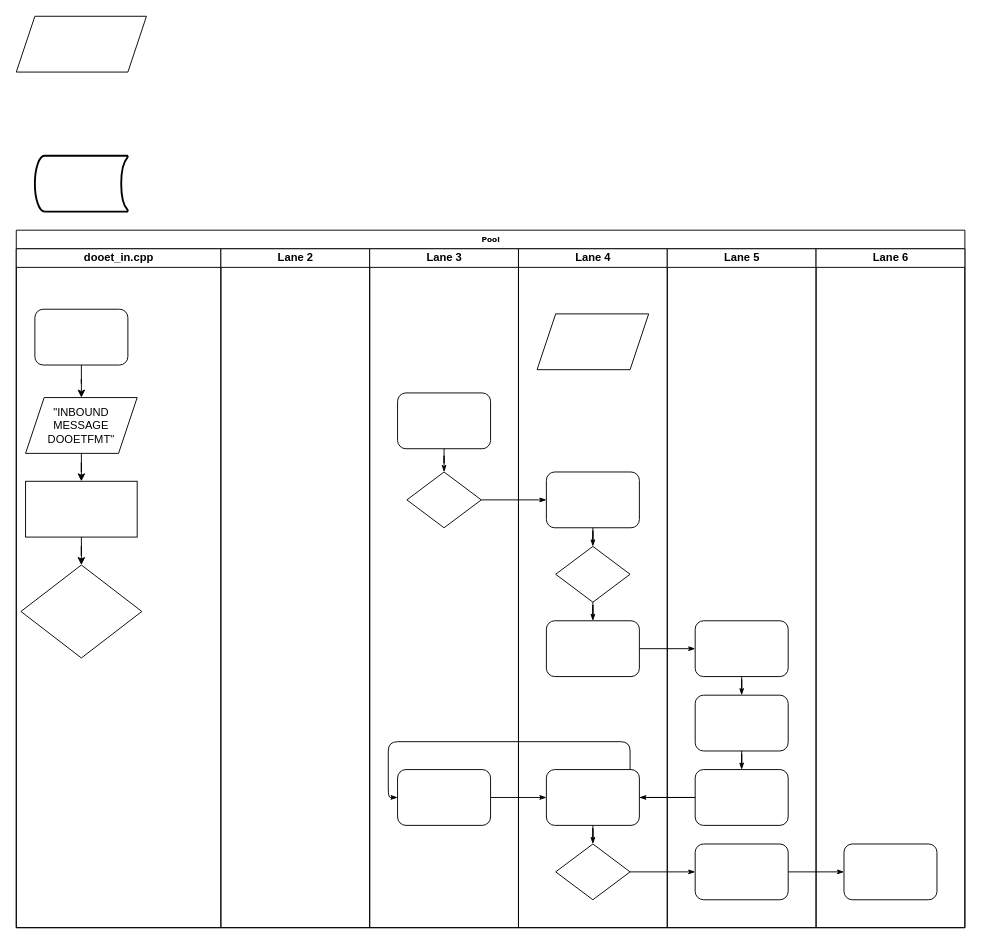
The diagram is 981 pixels wide and 944 high, and some of its shapes have lost their labels. The shapes that lost their labels are listed below. From the top down, each one's centre as x and y in pixels, then its label:
pixel 80 43: Incoming transaction
pixel 81 336: isoFromNet()
pixel 81 508: parseIsomsg()
pixel 81 611: qris(myiso.pcode?
